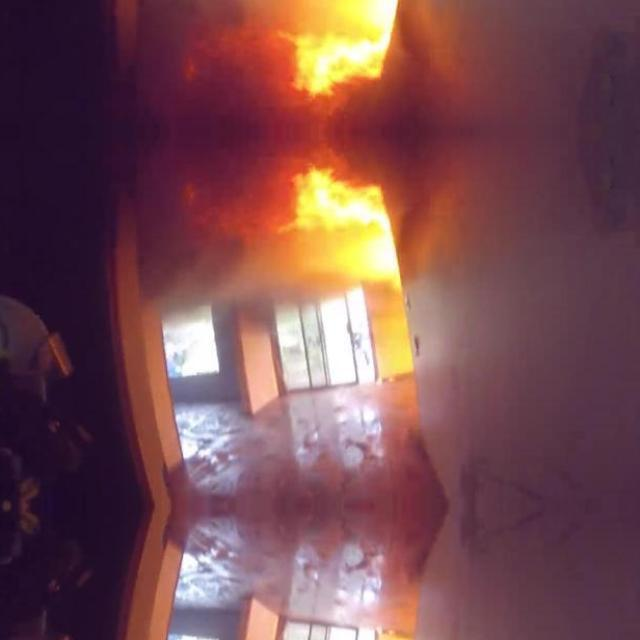smoke: (280, 158, 404, 299), (280, 0, 406, 105)
